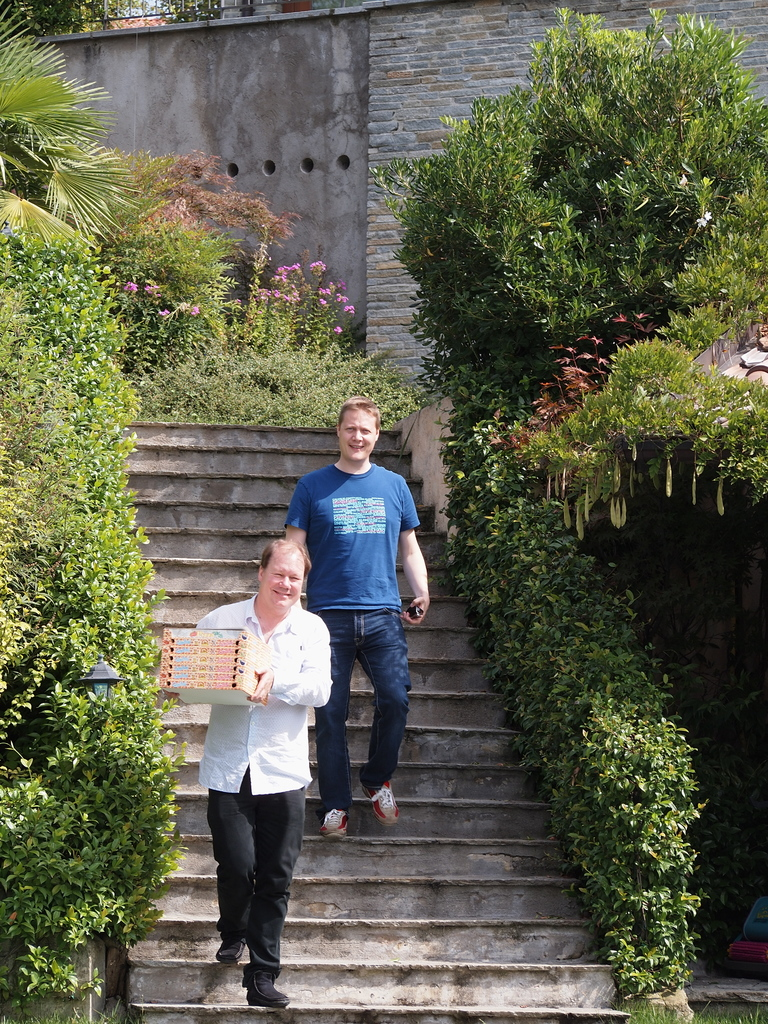Tree: (360, 0, 767, 434), (0, 133, 300, 404)
